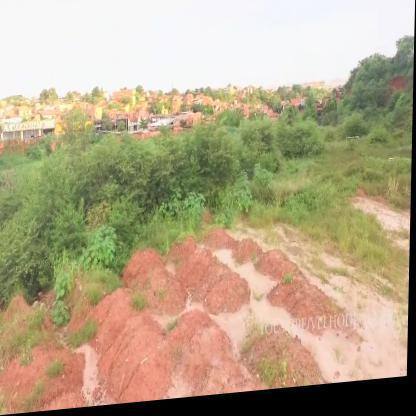agua: (212, 245, 296, 355)
